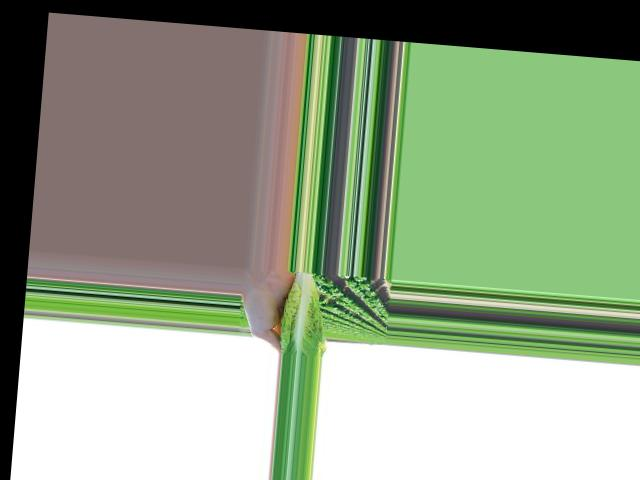lettuce: (279, 269, 329, 355)
